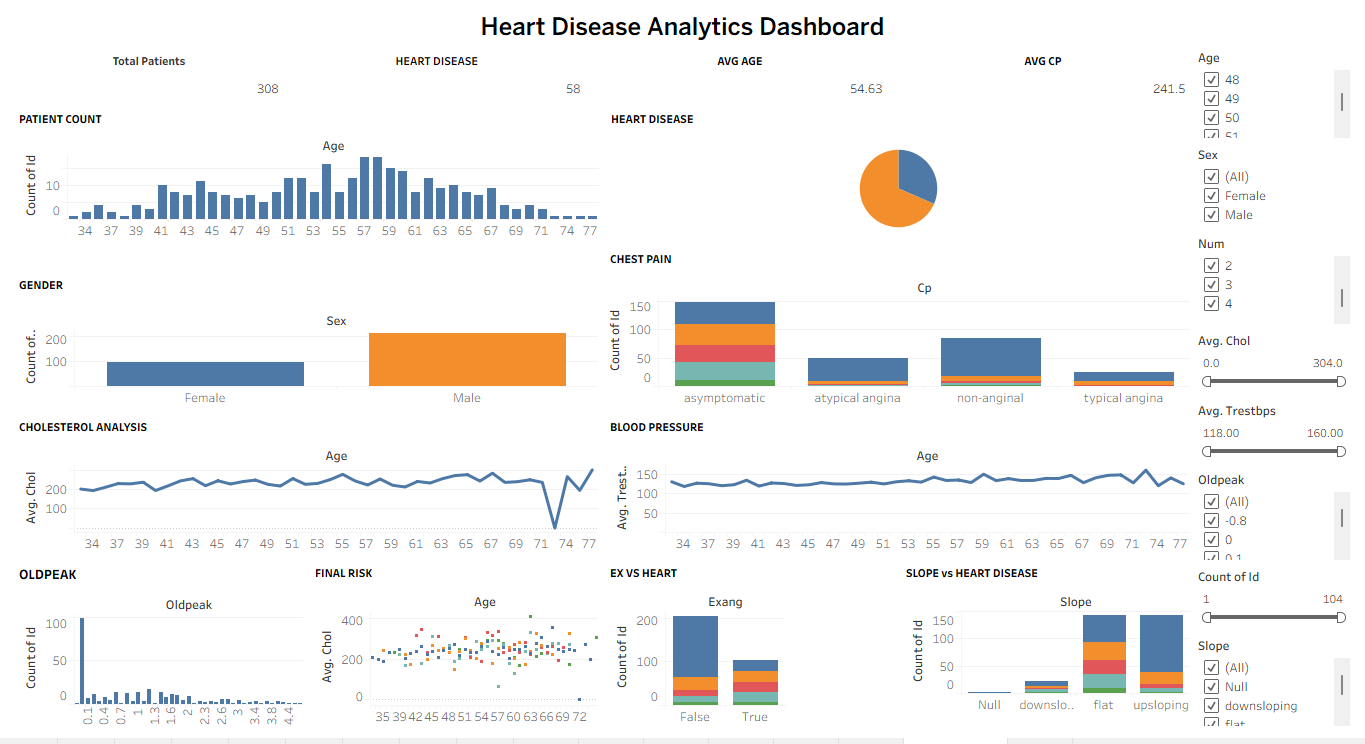

This screenshot's page, from the dashboard's own definition file:
{"tool":"tableau","page":{"name":"Dashboard 1","canvas":[1000,1000],"units":"permille","ordinal":0},"visuals":[{"type":"title","box":[7,11.8,986,54.6]},{"type":"worksheet","title":"Sheet 15","mark":"Automatic","box":[7,66.4,211.4,77.4]},{"type":"worksheet","title":"Sheet 2","mark":"Automatic","box":[218.4,66.4,211.4,77.4]},{"type":"worksheet","title":"Sheet 3","mark":"Automatic","box":[429.8,66.4,211.4,77.4]},{"type":"worksheet","title":"Sheet 4","mark":"Automatic","box":[641.1,66.4,211.4,77.4]},{"type":"filter","title":"Sheet 5","param":"[federated.09voyxy1ylijrb1b3s4bs1yl29xn].[none:age:ok]","box":[852.5,66.4,140.5,123.3]},{"type":"worksheet","title":"Sheet 5","mark":"Bar","rows":["id"],"cols":["age"],"box":[7,143.8,423.1,189.5]},{"type":"worksheet","title":"Sheet 6","mark":"Pie","box":[430.1,143.8,422.4,189.5]},{"type":"filter","title":"Sheet 7","param":"[federated.09voyxy1ylijrb1b3s4bs1yl29xn].[none:sex:nk]","box":[852.5,189.7,140.5,123.3]},{"type":"filter","title":"Sheet 8","param":"[federated.09voyxy1ylijrb1b3s4bs1yl29xn].[none:num:ok]","box":[852.5,313,140.5,123.3]},{"type":"worksheet","title":"Sheet 7","mark":"Automatic","rows":["id"],"cols":["sex"],"box":[7,333.3,422.7,225.7]},{"type":"worksheet","title":"Sheet 8","mark":"Automatic","rows":["id"],"cols":["cp"],"box":[429.8,333.3,422.8,225.7]},{"type":"filter","title":"Sheet 9","param":"[federated.09voyxy1ylijrb1b3s4bs1yl29xn].[avg:chol:qk]","box":[852.5,436.3,140.5,101.8]},{"type":"filter","title":"Sheet 10","param":"[federated.09voyxy1ylijrb1b3s4bs1yl29xn].[avg:trestbps:qk]","box":[852.5,538,140.5,101.8]},{"type":"worksheet","title":"Sheet 9","mark":"Line","rows":["chol"],"cols":["age"],"box":[7,559,422.7,196.2]},{"type":"worksheet","title":"Sheet 10","mark":"Line","rows":["trestbps"],"cols":["age"],"box":[429.7,559,422.7,196.2]},{"type":"filter","title":"Sheet 12","param":"[federated.09voyxy1ylijrb1b3s4bs1yl29xn].[none:oldpeak:ok]","box":[852.5,639.8,140.5,123.3]},{"type":"worksheet","title":"Sheet 12","mark":"Automatic","rows":["id"],"cols":["oldpeak"],"box":[7,755.2,211.4,233]},{"type":"worksheet","title":"Sheet 14","mark":"Square","rows":["chol"],"cols":["age"],"box":[218.4,755.2,211.4,233]},{"type":"worksheet","title":"Sheet 11","mark":"Bar","rows":["id"],"cols":["exang"],"box":[429.8,755.2,211.4,233]},{"type":"worksheet","title":"Sheet 13","mark":"Automatic","rows":["id"],"cols":["slope"],"box":[641.1,755.2,211.4,233]},{"type":"filter","title":"Sheet 13","param":"[federated.09voyxy1ylijrb1b3s4bs1yl29xn].[cnt:id:qk]","box":[852.5,763.1,140.5,101.8]},{"type":"filter","title":"Sheet 13","param":"[federated.09voyxy1ylijrb1b3s4bs1yl29xn].[none:slope:nk]","box":[852.5,864.9,140.5,123.3]}]}

Visuals, with their boxes on the dashboard's canvas, which has no fixed pixel size, in thousandths of its width and height (x1, y1, x2, y2). These are canvas units, not pixel positions in the 1365x744 screenshot, which may show the page scaled, cropped or inside an application window:
title: 7:12:993:66
"Sheet 15" worksheet: 7:66:218:144
"Sheet 2" worksheet: 218:66:430:144
"Sheet 3" worksheet: 430:66:641:144
"Sheet 4" worksheet: 641:66:852:144
"Sheet 5" filter: 852:66:993:190
"Sheet 5" worksheet (Bar marks): 7:144:430:333
"Sheet 6" worksheet (Pie marks): 430:144:852:333
"Sheet 7" filter: 852:190:993:313
"Sheet 8" filter: 852:313:993:436
"Sheet 7" worksheet: 7:333:430:559
"Sheet 8" worksheet: 430:333:853:559
"Sheet 9" filter: 852:436:993:538
"Sheet 10" filter: 852:538:993:640
"Sheet 9" worksheet (Line marks): 7:559:430:755
"Sheet 10" worksheet (Line marks): 430:559:852:755
"Sheet 12" filter: 852:640:993:763
"Sheet 12" worksheet: 7:755:218:988
"Sheet 14" worksheet (Square marks): 218:755:430:988
"Sheet 11" worksheet (Bar marks): 430:755:641:988
"Sheet 13" worksheet: 641:755:852:988
"Sheet 13" filter: 852:763:993:865
"Sheet 13" filter: 852:865:993:988
